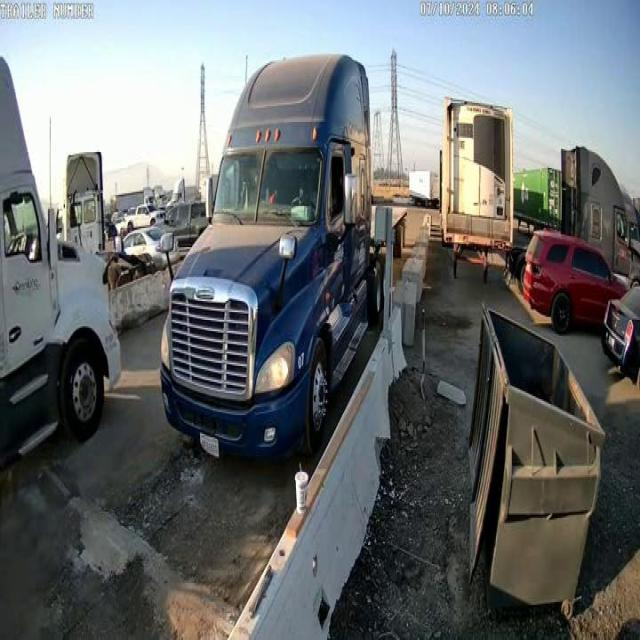TRUCK_IN: (0, 53, 124, 449)
TRUCK_OUT: (154, 58, 382, 464)
